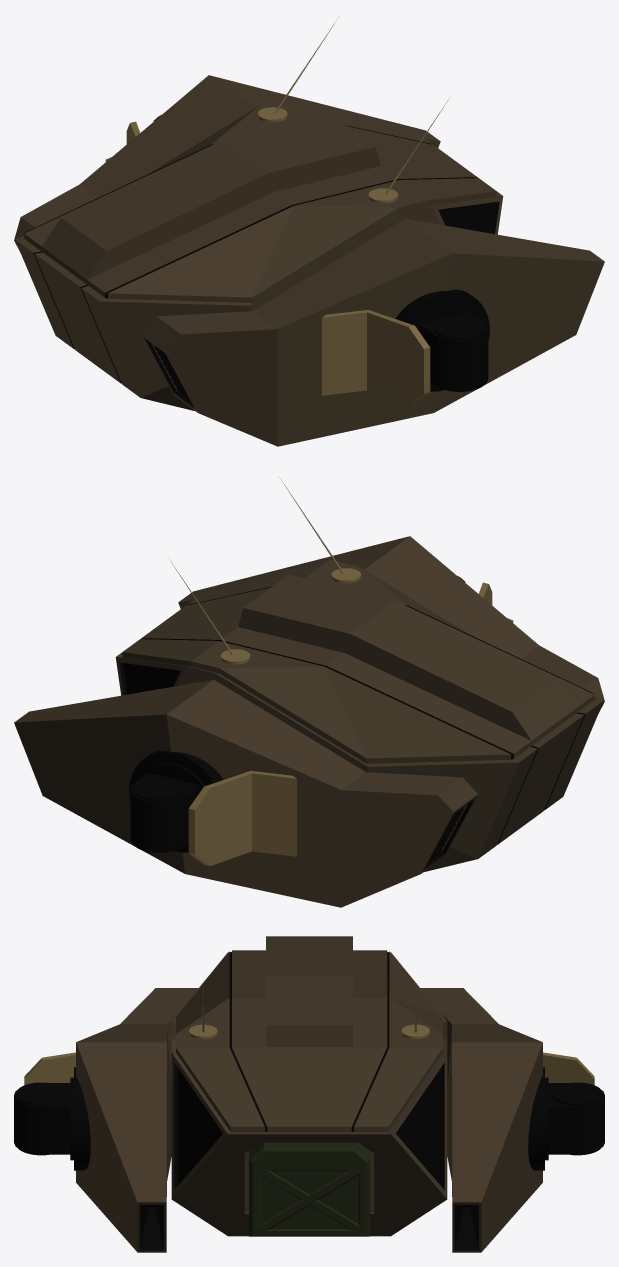
File: boss_body.fbx
3 views of the same model, one above another, from view 1: azimuth 30°, elevation 25°; view 2: azimuth 150°, elevation 25°; view 3: azimuth 270°, elevation 25° (orthographic). The views are drawn at different scales.
Visible parts, largest first — view 1: body, body_engine, body_side_shield_right, body_joint_right, weapon_cylinder_1_right, weapon_cylinder_4_right, body_platform_antenna, weapon_cylinder_2_right; view 2: body, body_engine, body_side_shield_left, body_joint_left, weapon_cylinder_1_left, weapon_cylinder_4_left, body_platform_antenna, weapon_cylinder_2_left; view 3: body, body_engine, body_cartridge_container, body_joint_left, body_joint_right, weapon_cylinder_1_left, weapon_cylinder_1_right, body_side_shield_left, body_side_shield_right, weapon_cylinder_4_left, weapon_cylinder_4_right, body_platform_antenna.
Boxes of the visible parts, bbox=[...] form: body: bbox=[15, 98, 503, 411]; body_engine: bbox=[14, 75, 604, 446]; body_side_shield_right: bbox=[322, 310, 430, 404]; body_joint_right: bbox=[419, 312, 488, 390]; weapon_cylinder_1_right: bbox=[395, 289, 489, 391]; weapon_cylinder_4_right: bbox=[434, 316, 486, 391]; body_platform_antenna: bbox=[257, 107, 398, 203]; weapon_cylinder_2_right: bbox=[414, 301, 478, 382]; body: bbox=[115, 559, 603, 872]; body_engine: bbox=[14, 536, 604, 907]; body_side_shield_left: bbox=[188, 771, 296, 865]; body_joint_left: bbox=[130, 773, 199, 851]; weapon_cylinder_1_left: bbox=[129, 750, 223, 852]; weapon_cylinder_4_left: bbox=[132, 777, 184, 852]; body_platform_antenna: bbox=[220, 568, 361, 664]; weapon_cylinder_2_left: bbox=[140, 762, 204, 843]; body: bbox=[171, 936, 447, 1236]; body_engine: bbox=[76, 988, 542, 1252]; body_cartridge_container: bbox=[249, 1142, 369, 1236]; body_joint_left: bbox=[548, 1083, 604, 1154]; body_joint_right: bbox=[14, 1083, 70, 1154]; weapon_cylinder_1_left: bbox=[528, 1067, 544, 1170]; weapon_cylinder_1_right: bbox=[74, 1067, 90, 1170]; body_side_shield_left: bbox=[543, 1052, 594, 1085]; body_side_shield_right: bbox=[24, 1052, 75, 1085]; weapon_cylinder_4_left: bbox=[552, 1082, 602, 1155]; weapon_cylinder_4_right: bbox=[16, 1082, 66, 1155]; body_platform_antenna: bbox=[189, 1024, 429, 1039].
Size of the model in its own units: 148 by 82.86 by 173.
